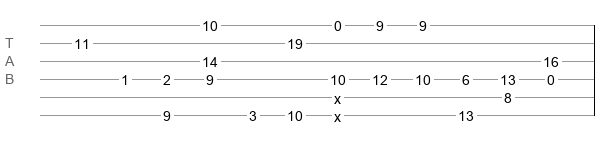0: (334, 18, 342, 28), (547, 72, 555, 82)
1: (121, 72, 129, 82)
10: (202, 18, 218, 28), (287, 108, 303, 118), (330, 72, 346, 82), (415, 72, 431, 82)
11: (74, 36, 90, 46)
12: (372, 72, 388, 82)
13: (458, 108, 474, 118), (500, 72, 516, 82)
14: (202, 54, 218, 64)
16: (543, 54, 559, 64)
19: (287, 36, 303, 46)
2: (163, 72, 171, 82)
3: (249, 108, 257, 118)
6: (462, 72, 470, 82)
8: (504, 90, 512, 100)
9: (163, 108, 171, 118), (206, 72, 214, 82), (376, 18, 384, 28), (419, 18, 427, 28)
x: (334, 91, 341, 99), (334, 109, 341, 117)
